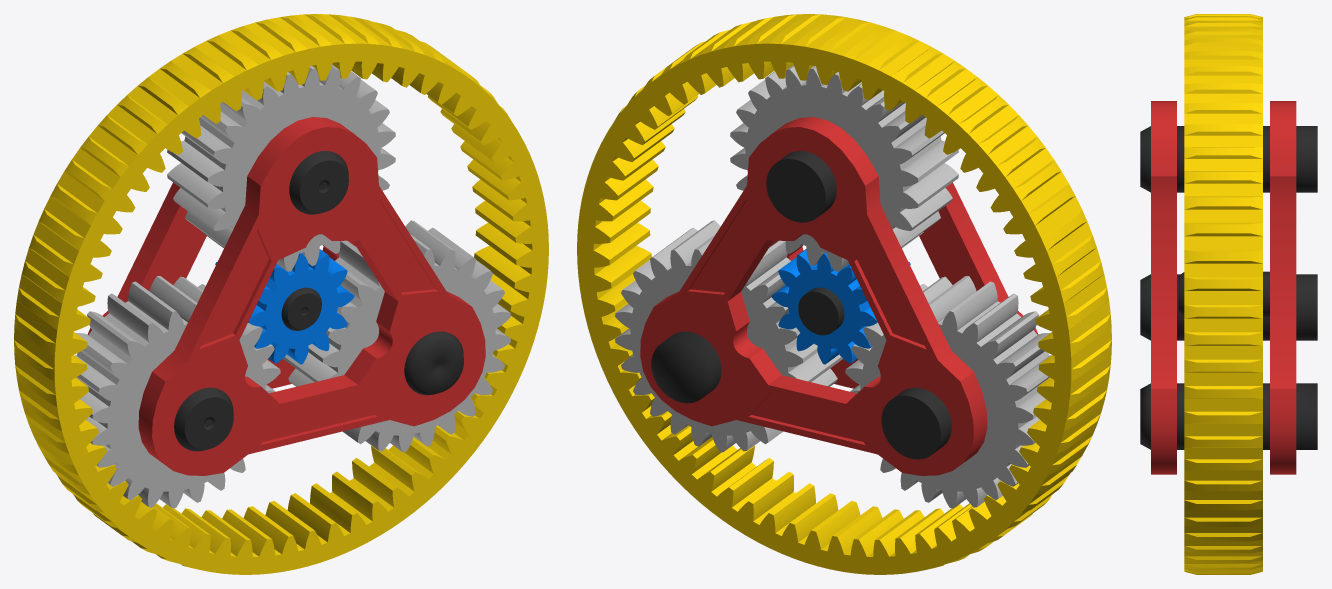
The picture shows the model from 3 angles, left to right: view 1: azimuth 30°, elevation 25°; view 2: azimuth 150°, elevation 25°; view 3: azimuth 270°, elevation 25°; orthographic projection. The views are drawn at different scales.
Parts seen in each view (by area): view 1: Ring Gear.001, Carrier, Pinion Gear.002, Pinion Gear, Pinion Gear.001, Sun Gear, Pinion Shaft.002, Pinion Shaft.001, Pinion Shaft, Sun Shaft; view 2: Ring Gear.001, Carrier, Pinion Gear.002, Pinion Gear, Pinion Gear.001, Sun Gear, Pinion Shaft.001, Pinion Shaft.002, Pinion Shaft, Sun Shaft; view 3: Ring Gear.001, Carrier, Pinion Shaft, Pinion Shaft.001, Pinion Shaft.002, Sun Shaft.
Boxes of the visible parts, x1,y1,x2,y2 form: Ring Gear.001: [14, 14, 548, 574]; Carrier: [87, 117, 485, 475]; Pinion Gear.002: [75, 276, 280, 508]; Pinion Gear: [167, 65, 395, 271]; Pinion Gear.001: [283, 220, 510, 452]; Sun Gear: [215, 249, 354, 364]; Pinion Shaft.002: [174, 387, 233, 451]; Pinion Shaft.001: [404, 331, 463, 395]; Pinion Shaft: [289, 151, 348, 214]; Sun Shaft: [281, 287, 321, 330]; Ring Gear.001: [577, 14, 1111, 574]; Carrier: [640, 117, 1038, 475]; Pinion Gear.002: [845, 276, 1050, 508]; Pinion Gear: [730, 65, 958, 271]; Pinion Gear.001: [615, 220, 842, 452]; Sun Gear: [771, 249, 910, 364]; Pinion Shaft.001: [651, 331, 721, 403]; Pinion Shaft.002: [881, 387, 951, 459]; Pinion Shaft: [766, 151, 836, 222]; Sun Shaft: [798, 287, 844, 335]; Ring Gear.001: [1184, 14, 1262, 574]; Carrier: [1151, 101, 1296, 474]; Pinion Shaft: [1140, 126, 1317, 192]; Pinion Shaft.001: [1140, 383, 1317, 449]; Pinion Shaft.002: [1140, 274, 1317, 340]; Sun Shaft: [1178, 271, 1269, 317].
Bounding box in the file's own units: 6.41 × 6.41 × 2.03.
